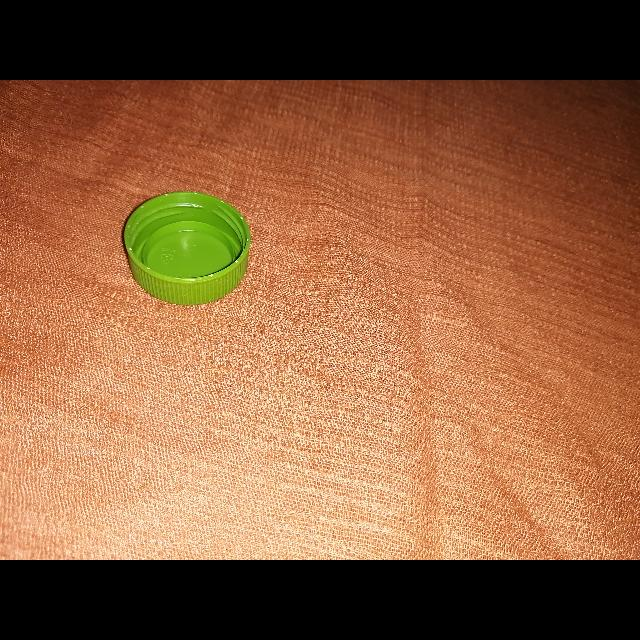plastic_bottle_cap: (124, 190, 250, 306)
